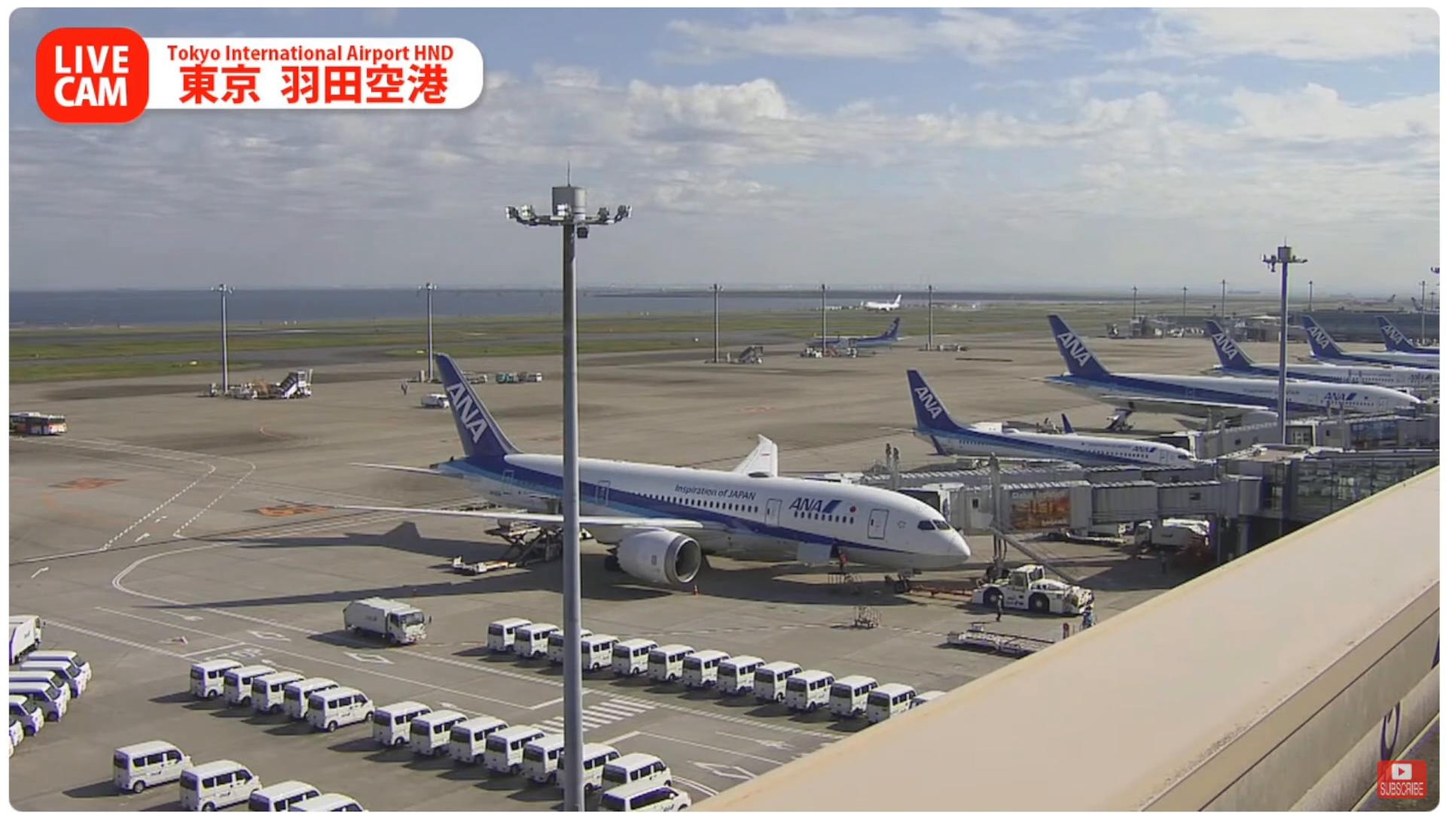APS: (969, 564, 1106, 619)
Aerobridge: (899, 476, 1264, 540), (843, 457, 1217, 496)
Airplane: (330, 354, 973, 599)
Baggage truck: (343, 596, 430, 643)
JCPL: (450, 522, 565, 575)
Window: (1290, 456, 1440, 523)
